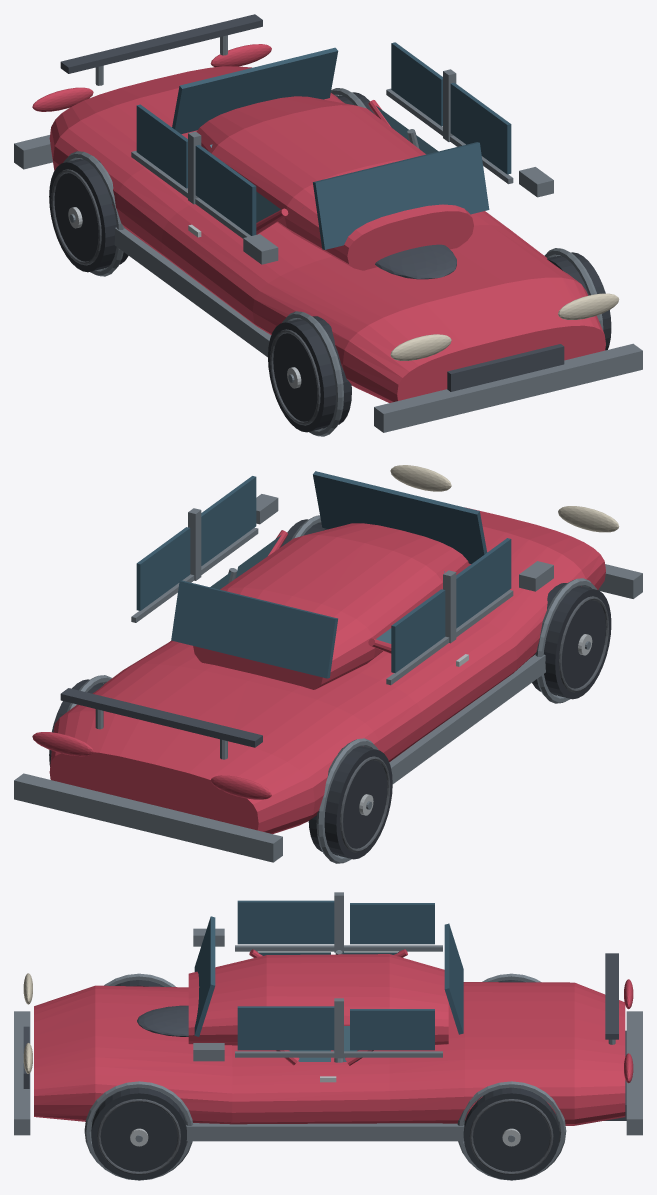
Rendered from sports_car.glb.
3 views of the same model, one above another, from view 1: azimuth 30°, elevation 25°; view 2: azimuth 150°, elevation 25°; view 3: azimuth 270°, elevation 25° (orthographic). The views are drawn at different scales.
Visible parts, largest first — view 1: sports_car_body, sports_car_roof_shell, sports_car_front_glass_insert, sports_car_front_bumper, sports_car_rear_glass_insert, sports_car_wheel_-1_1_tire_core, sports_car_wheel_-1_0_tire_core, sports_car_side_skirt_-1, sports_car_side_glass_front_insert_-1, sports_car_side_glass_front_insert_1, sports_car_rear_spoiler, sports_car_side_glass_rear_insert_1 (+20 smaller); view 2: sports_car_body, sports_car_roof_shell, sports_car_rear_glass_insert, sports_car_rear_bumper, sports_car_front_glass_insert, sports_car_wheel_-1_0_tire_core, sports_car_wheel_-1_1_tire_core, sports_car_side_skirt_-1, sports_car_side_glass_front_insert_-1, sports_car_side_glass_front_insert_1, sports_car_rear_spoiler, sports_car_side_glass_rear_insert_-1 (+15 smaller); view 3: sports_car_body, sports_car_roof_shell, sports_car_wheel_1_1_tire_core, sports_car_wheel_1_0_tire_core, sports_car_side_skirt_1, sports_car_side_glass_front_insert_1, sports_car_side_glass_front_insert_-1, sports_car_side_glass_rear_insert_-1, sports_car_side_glass_rear_insert_1, sports_car_rear_bumper, sports_car_front_bumper, sports_car_front_glass_insert (+13 smaller).
Part boxes in pixels (x1=…): sports_car_body: x1=49, y1=66, x2=605, y2=402; sports_car_roof_shell: x1=196, y1=96, x2=473, y2=270; sports_car_front_glass_insert: x1=313, y1=142, x2=489, y2=249; sports_car_front_bumper: x1=374, y1=343, x2=642, y2=432; sports_car_rear_glass_insert: x1=172, y1=47, x2=338, y2=134; sports_car_wheel_-1_1_tire_core: x1=268, y1=316, x2=351, y2=432; sports_car_wheel_-1_0_tire_core: x1=49, y1=159, x2=128, y2=272; sports_car_side_skirt_-1: x1=114, y1=227, x2=271, y2=357; sports_car_side_glass_front_insert_-1: x1=195, y1=145, x2=256, y2=235; sports_car_side_glass_front_insert_1: x1=450, y1=82, x2=511, y2=174; sports_car_rear_spoiler: x1=60, y1=14, x2=262, y2=73; sports_car_side_glass_rear_insert_1: x1=391, y1=42, x2=442, y2=126; sports_car_body: x1=49, y1=507, x2=605, y2=833; sports_car_roof_shell: x1=193, y1=523, x2=470, y2=689; sports_car_rear_glass_insert: x1=171, y1=580, x2=337, y2=678; sports_car_rear_bumper: x1=14, y1=773, x2=282, y2=862; sports_car_front_glass_insert: x1=313, y1=471, x2=487, y2=563; sports_car_wheel_-1_0_tire_core: x1=308, y1=746, x2=392, y2=859; sports_car_wheel_-1_1_tire_core: x1=532, y1=583, x2=611, y2=699; sports_car_side_skirt_-1: x1=389, y1=654, x2=545, y2=783; sports_car_side_glass_front_insert_-1: x1=456, y1=538, x2=511, y2=628; sports_car_side_glass_front_insert_1: x1=201, y1=476, x2=256, y2=565; sports_car_rear_spoiler: x1=60, y1=688, x2=262, y2=747; sports_car_side_glass_rear_insert_-1: x1=391, y1=589, x2=445, y2=673; sports_car_body: x1=34, y1=982, x2=625, y2=1125; sports_car_roof_shell: x1=188, y1=954, x2=448, y2=1045; sports_car_wheel_1_1_tire_core: x1=91, y1=1087, x2=186, y2=1180; sports_car_wheel_1_0_tire_core: x1=463, y1=1087, x2=559, y2=1180; sports_car_side_skirt_1: x1=186, y1=1123, x2=464, y2=1141; sports_car_side_glass_front_insert_1: x1=237, y1=1006, x2=334, y2=1050; sports_car_side_glass_front_insert_-1: x1=237, y1=900, x2=334, y2=944; sports_car_side_glass_rear_insert_-1: x1=350, y1=903, x2=434, y2=944; sports_car_side_glass_rear_insert_1: x1=350, y1=1009, x2=434, y2=1050; sports_car_rear_bumper: x1=626, y1=1011, x2=642, y2=1135; sports_car_front_bumper: x1=14, y1=1011, x2=30, y2=1135; sports_car_front_glass_insert: x1=194, y1=916, x2=215, y2=1036.
Size of the model in its own units: 2.14 by 1.45 by 4.6.
